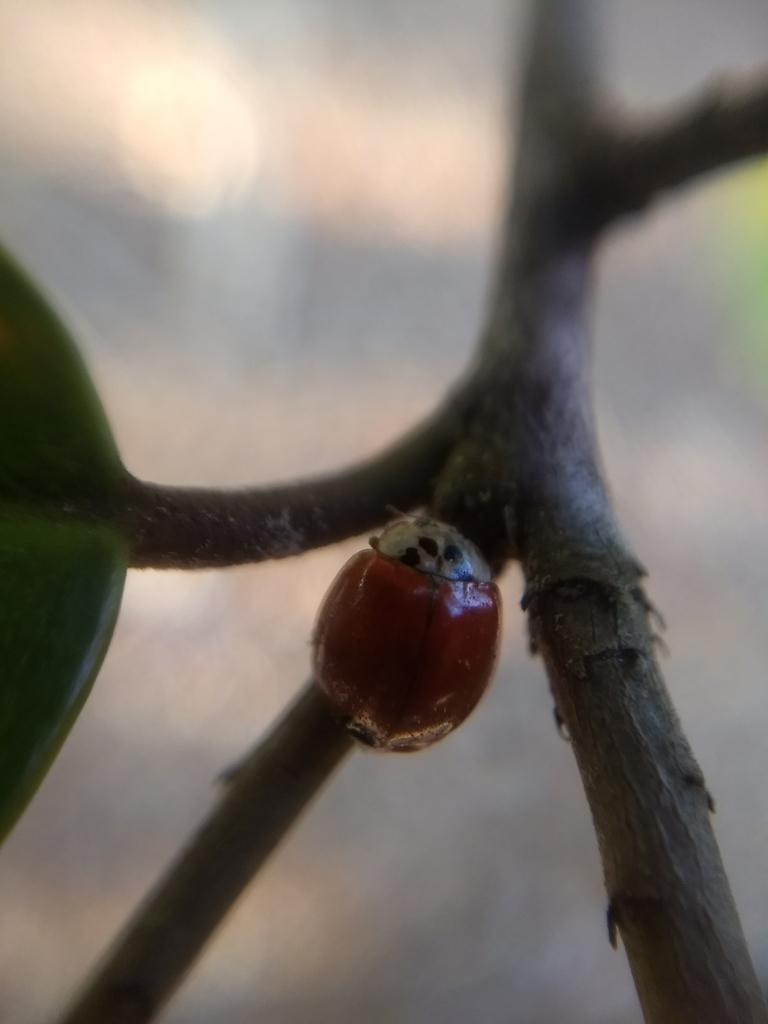ladybug: (309, 494, 509, 761)
